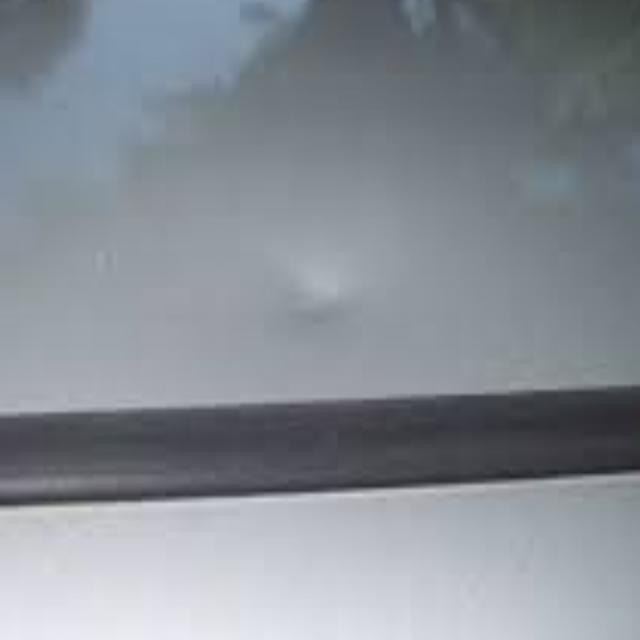dents: (270, 260, 370, 358)
